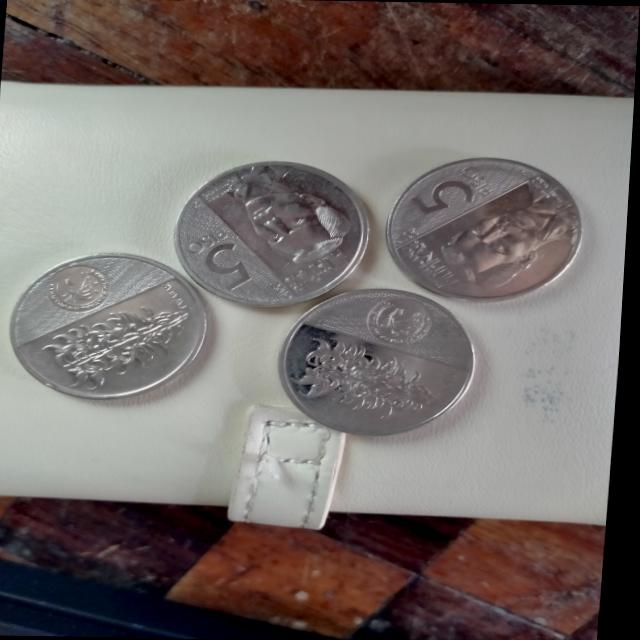5_New_Back: (275, 328, 459, 426), (49, 309, 201, 396)
5_New_Front: (174, 222, 263, 304), (409, 153, 507, 225)
